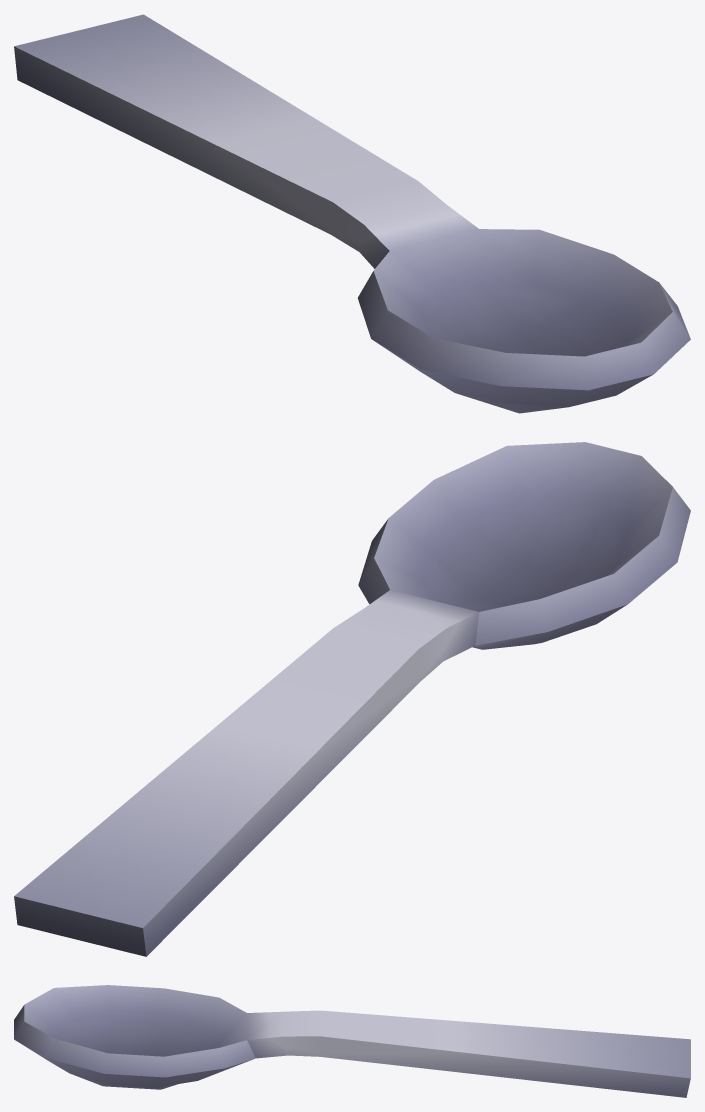
File: m_TeaSpoon01.fbx
3 renders of one model, top to bottom at view 1: azimuth 30°, elevation 25°; view 2: azimuth 150°, elevation 25°; view 3: azimuth 270°, elevation 25°, orthographic. The views are drawn at different scales.
Parts seen in each view (by area): view 1: m_TeaSpoon01.001; view 2: m_TeaSpoon01.001; view 3: m_TeaSpoon01.001.
Part boxes in pixels (x1,y1,x2,y2): m_TeaSpoon01.001: [14, 14, 690, 413]; m_TeaSpoon01.001: [14, 442, 690, 956]; m_TeaSpoon01.001: [14, 985, 690, 1097].
Bounding box in the file's own units: 3.74 × 1.5 × 13.7.
